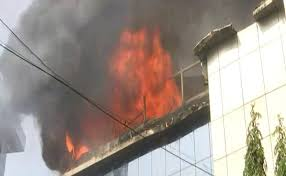smoke: (1, 1, 200, 132), (1, 1, 198, 131)
